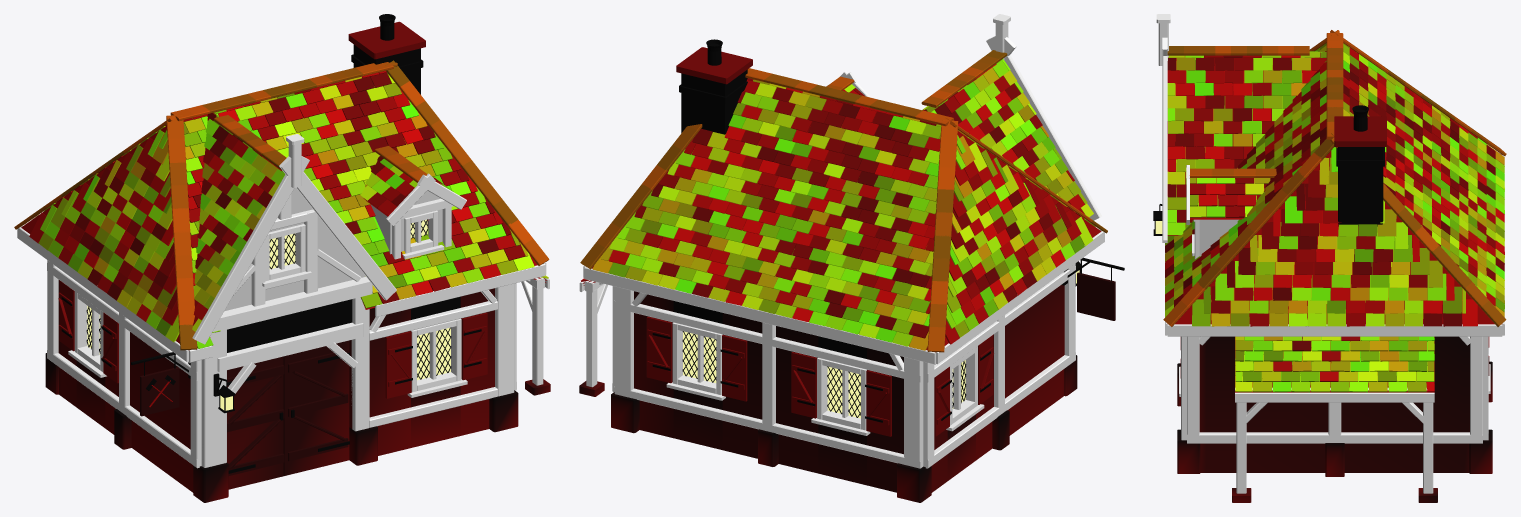
Rendered from SilverbrookWorkshop.fbx.
The picture shows the model from 3 angles, left to right: view 1: azimuth 30°, elevation 25°; view 2: azimuth 150°, elevation 25°; view 3: azimuth 270°, elevation 25°; orthographic projection.
Parts seen in each view (by area): view 1: SM_SBWorkshop_Roof, SM_SBWorkshop_Timber, SM_SBWorkshop_Masonry, SM_SBWorkshop_Details, SM_SBWorkshop_Plaster; view 2: SM_SBWorkshop_Roof, SM_SBWorkshop_Timber, SM_SBWorkshop_Masonry, SM_SBWorkshop_Details; view 3: SM_SBWorkshop_Roof, SM_SBWorkshop_Masonry, SM_SBWorkshop_Timber, SM_SBWorkshop_Plaster, SM_SBWorkshop_Details.
Part boxes in pixels (bbox=[...]): SM_SBWorkshop_Roof: bbox=[14, 60, 549, 350]; SM_SBWorkshop_Timber: bbox=[17, 134, 549, 468]; SM_SBWorkshop_Masonry: bbox=[45, 21, 550, 502]; SM_SBWorkshop_Details: bbox=[58, 14, 487, 489]; SM_SBWorkshop_Plaster: bbox=[224, 188, 442, 311]; SM_SBWorkshop_Roof: bbox=[580, 50, 1107, 352]; SM_SBWorkshop_Timber: bbox=[579, 14, 1104, 468]; SM_SBWorkshop_Masonry: bbox=[579, 47, 1077, 502]; SM_SBWorkshop_Details: bbox=[646, 39, 1124, 436]; SM_SBWorkshop_Roof: bbox=[1163, 30, 1506, 392]; SM_SBWorkshop_Masonry: bbox=[1177, 116, 1492, 502]; SM_SBWorkshop_Timber: bbox=[1156, 14, 1504, 493]; SM_SBWorkshop_Plaster: bbox=[1199, 219, 1238, 256]; SM_SBWorkshop_Details: bbox=[1153, 105, 1489, 378].
Size of the model in its own units: 771 by 594 by 549.
